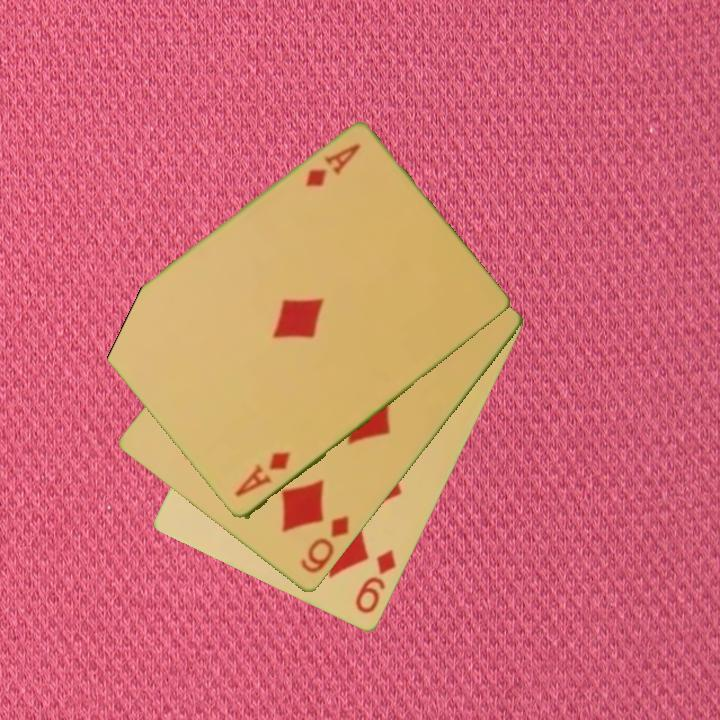6d: (297, 512, 353, 577)
9d: (352, 546, 400, 617)
Ad: (230, 448, 294, 501), (301, 140, 364, 191)
